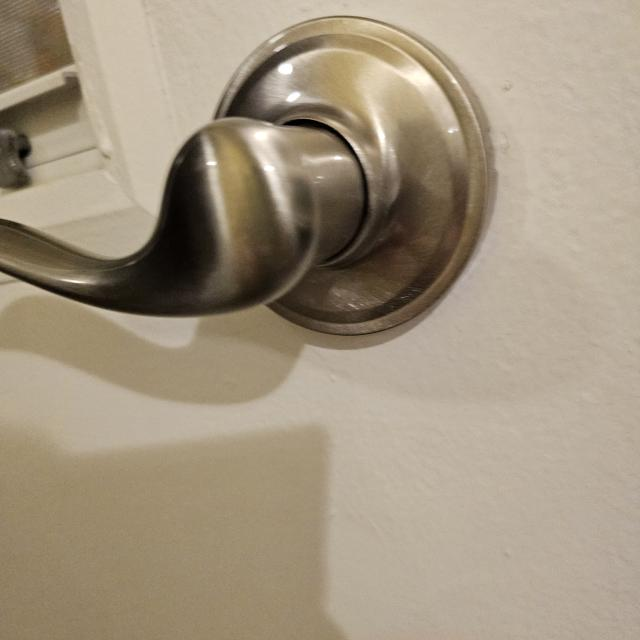door-handle: (0, 16, 488, 335)
